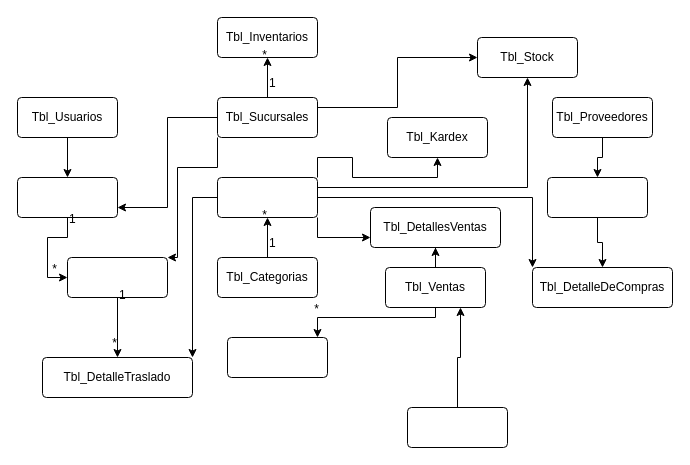
The diagram is 690 pixels wide and 465 high, and some of its shapes have lost their labels. The centre of each missing label's shape, as x and y in pixels:
"Tbl_Clientes" goes at point 457,427.
"Tbl_Compras" goes at point 597,197.
"Tbl_Empleados" goes at point 67,197.
"Tbl_Pagos" goes at point 277,357.
"Tbl_Productos" goes at point 267,197.
"Tbl_Traslados" goes at point 117,277.
